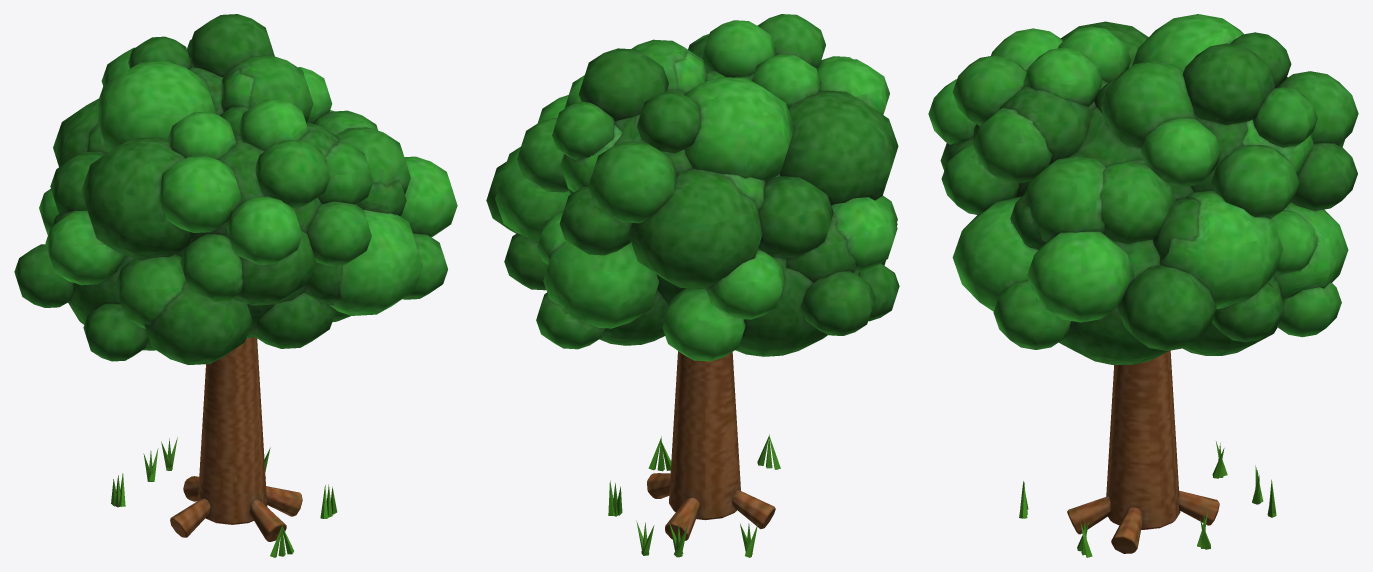
The model's file is wax_apple_tree.glb.
3 views of the same model, side by side, from view 1: azimuth 30°, elevation 25°; view 2: azimuth 150°, elevation 25°; view 3: azimuth 270°, elevation 25° (orthographic). The views are drawn at different scales.
Parts seen in each view (by area): view 1: crown, wax_apple_tree; view 2: crown, wax_apple_tree; view 3: crown, wax_apple_tree.
Part boxes in pixels (box(x1,y1,x2,y2)): crown: box(14, 14, 457, 364); wax_apple_tree: box(111, 337, 337, 557); crown: box(486, 14, 899, 361); wax_apple_tree: box(608, 351, 780, 557); crown: box(928, 14, 1358, 364); wax_apple_tree: box(1019, 350, 1276, 557).
Bounding box in the file's own units: 1.13 × 1.31 × 1.03.
1 material, 1 textured.
